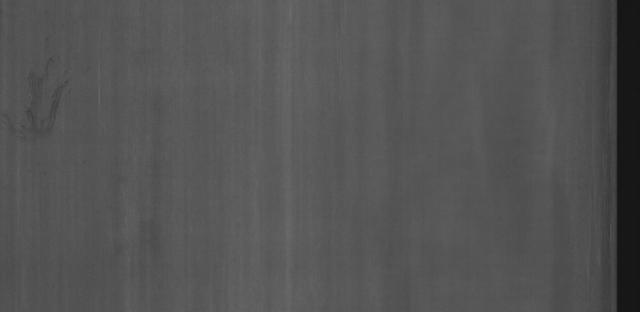water_spot: (17, 56, 77, 140)
